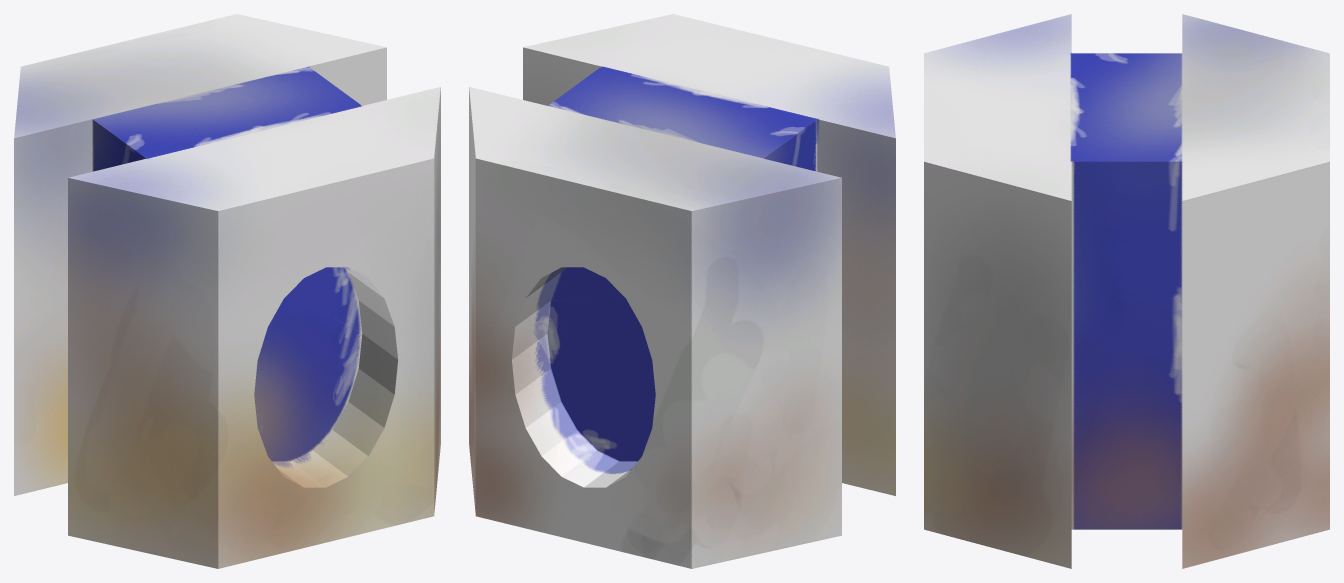
The model's file is Ruin.fbx.
3 renders of one model, left to right at view 1: azimuth 30°, elevation 25°; view 2: azimuth 150°, elevation 25°; view 3: azimuth 270°, elevation 25°, orthographic. The views are drawn at different scales.
Visible parts, largest first — view 1: node_id3; view 2: node_id3; view 3: node_id3.
Boxes of the visible parts, x1=… form: node_id3: x1=14, y1=14, x2=440, y2=568; node_id3: x1=469, y1=14, x2=895, y2=568; node_id3: x1=924, y1=14, x2=1329, y2=568.
Bounding box in the file's own units: 0.512 × 0.4693 × 0.4693.
1 material, 1 textured.
